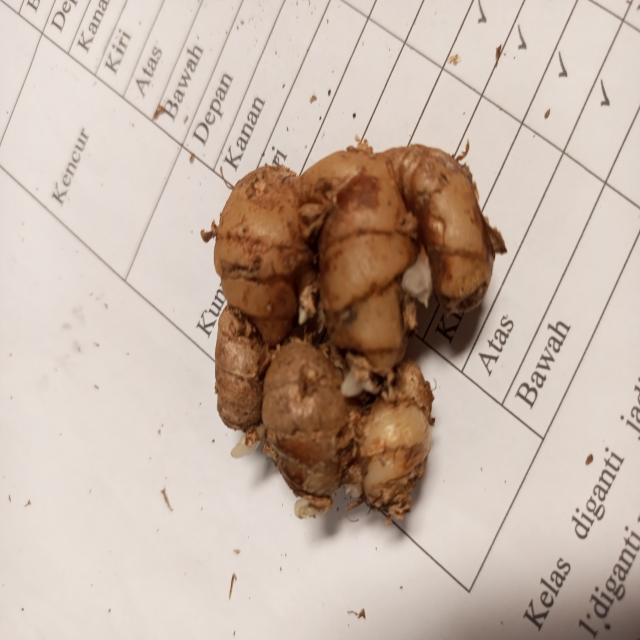ginger: (214, 145, 491, 505)
